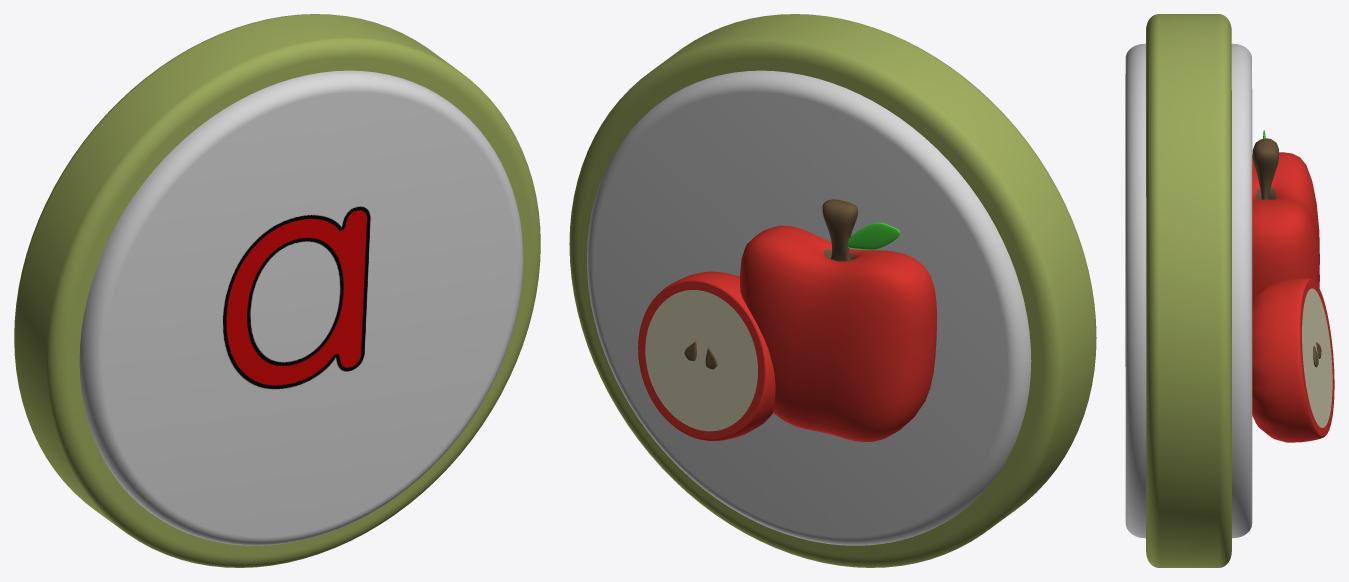
Rendered from apple.gltf.
The picture shows the model from 3 angles, left to right: view 1: azimuth 30°, elevation 25°; view 2: azimuth 150°, elevation 25°; view 3: azimuth 270°, elevation 25°; orthographic projection. The views are drawn at different scales.
Parts seen in each view (by area): view 1: Cylinder_2, Cylinder.001; view 2: Cylinder_2, Cylinder.001, Cube, Cylinder; view 3: Cylinder.001, Cylinder_2, Cylinder, Cube.
Boxes of the visible parts, x1,y1,x2,y2 form: Cylinder_2: (79, 70, 523, 545); Cylinder.001: (14, 14, 540, 567); Cylinder_2: (587, 70, 1031, 545); Cylinder.001: (569, 14, 1096, 567); Cube: (740, 199, 936, 441); Cylinder: (638, 271, 775, 441); Cylinder.001: (1146, 14, 1231, 567); Cylinder_2: (1125, 43, 1252, 538); Cylinder: (1252, 278, 1334, 442); Cube: (1252, 130, 1319, 298).
Bounding box in the file's own units: 2.56 × 2.56 × 0.965.
Materials: 6 (1 with a texture image).
